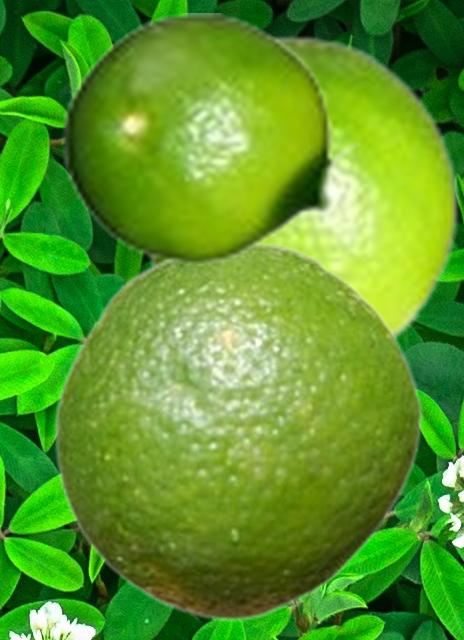calamansi: (53, 240, 422, 622), (138, 33, 460, 343), (60, 13, 364, 265)
